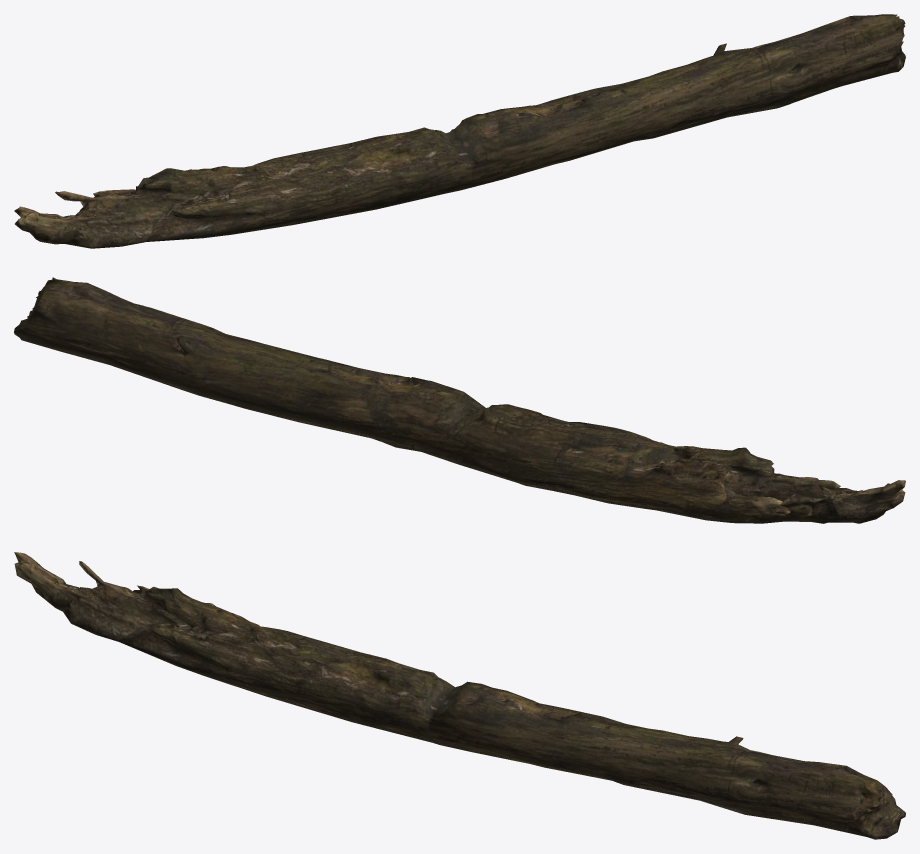
Rendered from dead_tree.glb.
The picture shows the model from 3 angles, top to bottom: view 1: azimuth 30°, elevation 25°; view 2: azimuth 150°, elevation 25°; view 3: azimuth 330°, elevation 25°; orthographic projection.
Parts seen in each view (by area): view 1: dead_tree_trunk; view 2: dead_tree_trunk; view 3: dead_tree_trunk.
Part boxes in pixels (x1,y1,x2,y2): dead_tree_trunk: (14,14,905,248); dead_tree_trunk: (14,277,905,523); dead_tree_trunk: (14,552,905,839).
Size of the model in its own units: 3.05 by 0.2868 by 0.2771.
1 material, 1 textured.
